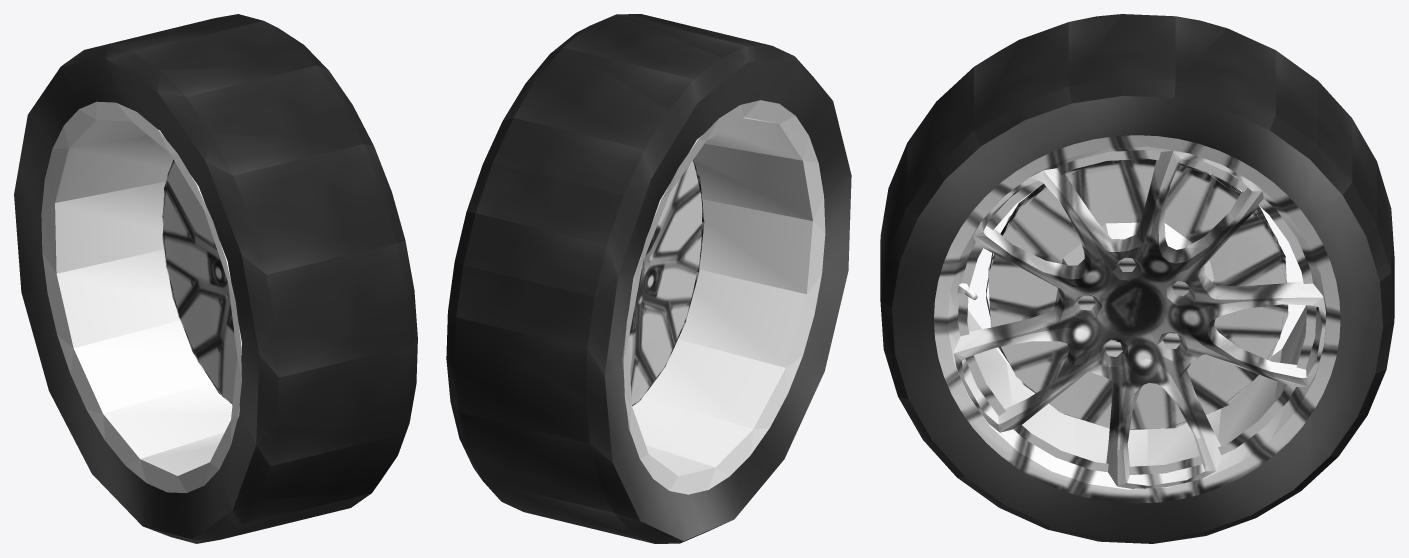
The model's file is llanta_DD.obj.
3 views of the same model, side by side, from view 1: azimuth 30°, elevation 25°; view 2: azimuth 150°, elevation 25°; view 3: azimuth 270°, elevation 25° (orthographic).
Visible parts, largest first — view 1: part_027; view 2: part_027; view 3: part_027.
Part boxes in pixels (x1,y1,x2,y2): part_027: (14,14,417,543); part_027: (446,14,851,543); part_027: (880,14,1394,543).
Size of the model in its own units: 0.2468 by 0.6603 by 0.6604.
